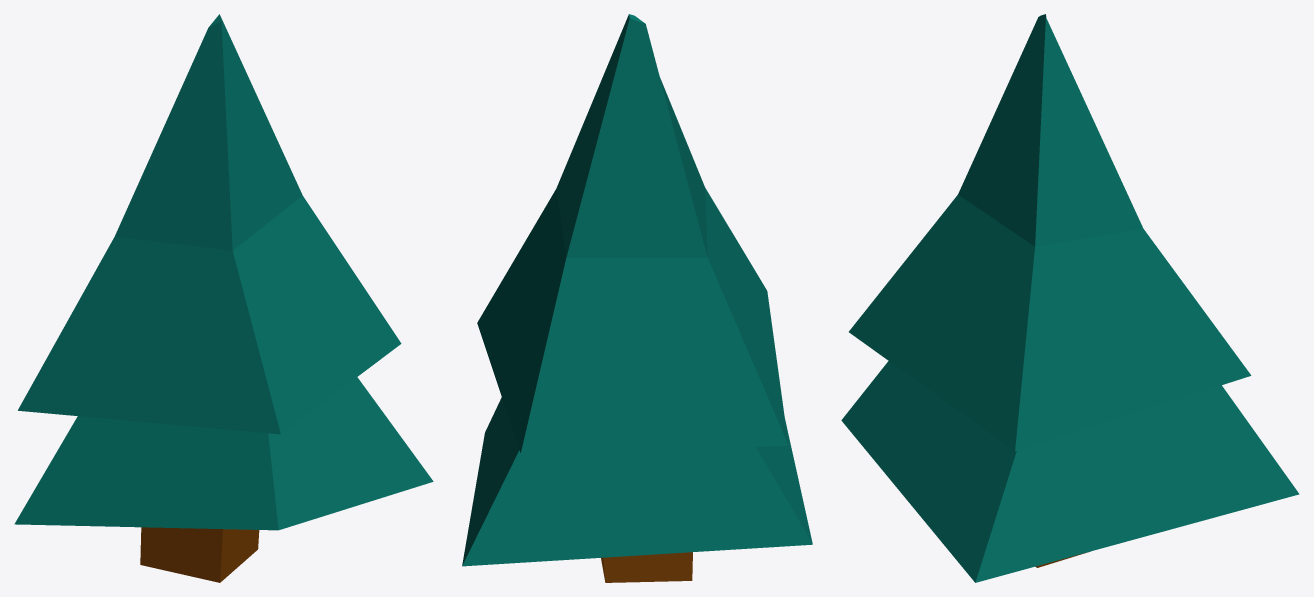
The model's file is tree2.fbx.
3 views of the same model, side by side, from view 1: azimuth 30°, elevation 25°; view 2: azimuth 150°, elevation 25°; view 3: azimuth 270°, elevation 25° (orthographic).
Visible parts, largest first — view 1: Cube.010; view 2: Cube.010; view 3: Cube.010.
Part boxes in pixels (x1=…): Cube.010: x1=14, y1=14, x2=433, y2=582; Cube.010: x1=462, y1=14, x2=812, y2=582; Cube.010: x1=841, y1=14, x2=1299, y2=582.
Size of the model in its own units: 160 by 222 by 172.
